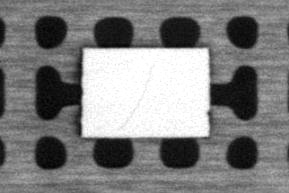DIE_CRACK: (118, 62, 156, 132)
